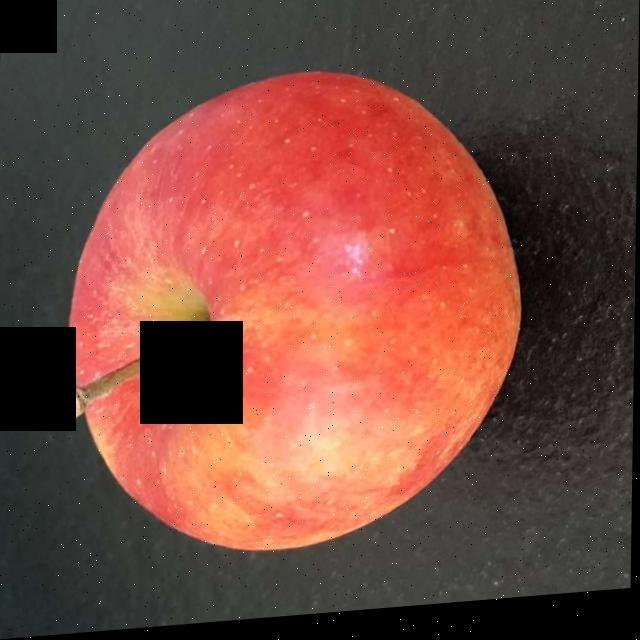apple: (79, 92, 510, 545)
